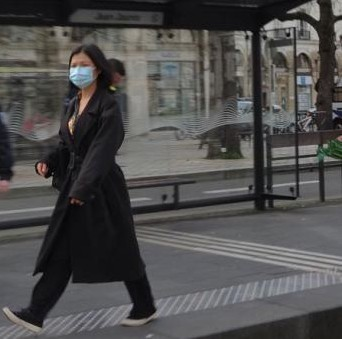with_mask: (66, 47, 107, 91)
